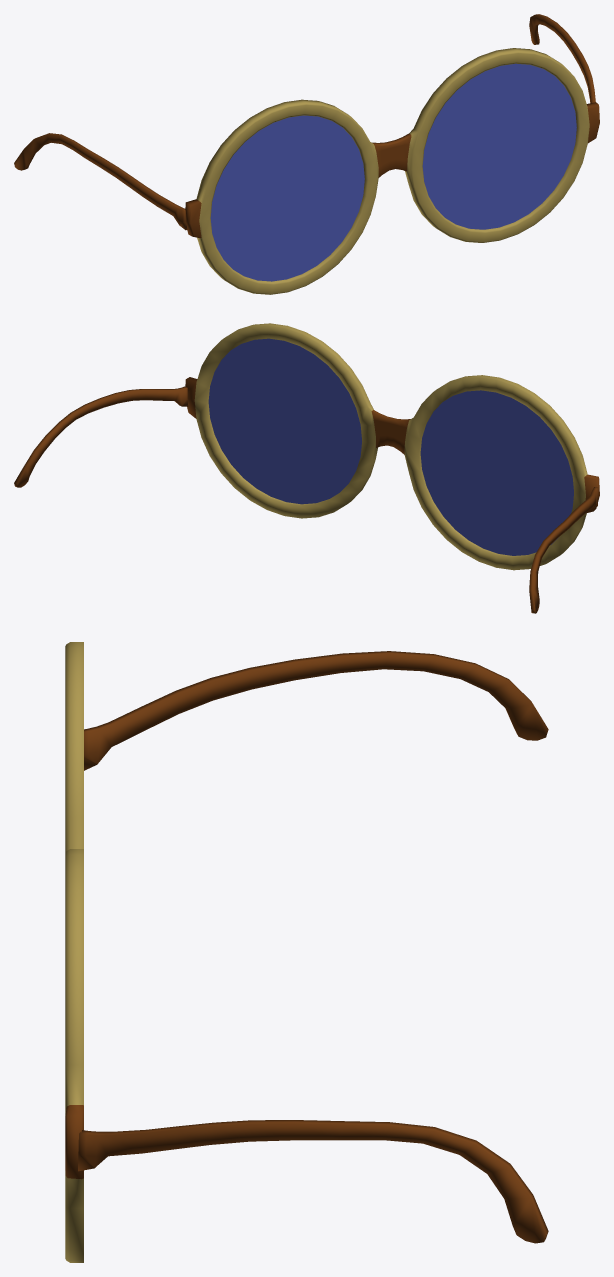
The model's file is Glasses.fbx.
3 views of the same model, one above another, from view 1: azimuth 30°, elevation 25°; view 2: azimuth 150°, elevation 25°; view 3: azimuth 270°, elevation 25° (orthographic). The views are drawn at different scales.
Parts seen in each view (by area): view 1: Glasses; view 2: Glasses; view 3: Glasses.
Part boxes in pixels (left/top/right/bottom): Glasses: left=14, top=14, right=599, bottom=294; Glasses: left=14, top=323, right=599, bottom=613; Glasses: left=65, top=642, right=548, bottom=1262.
Bounding box in the file's own units: 22.79 × 7.84 × 9.15.
